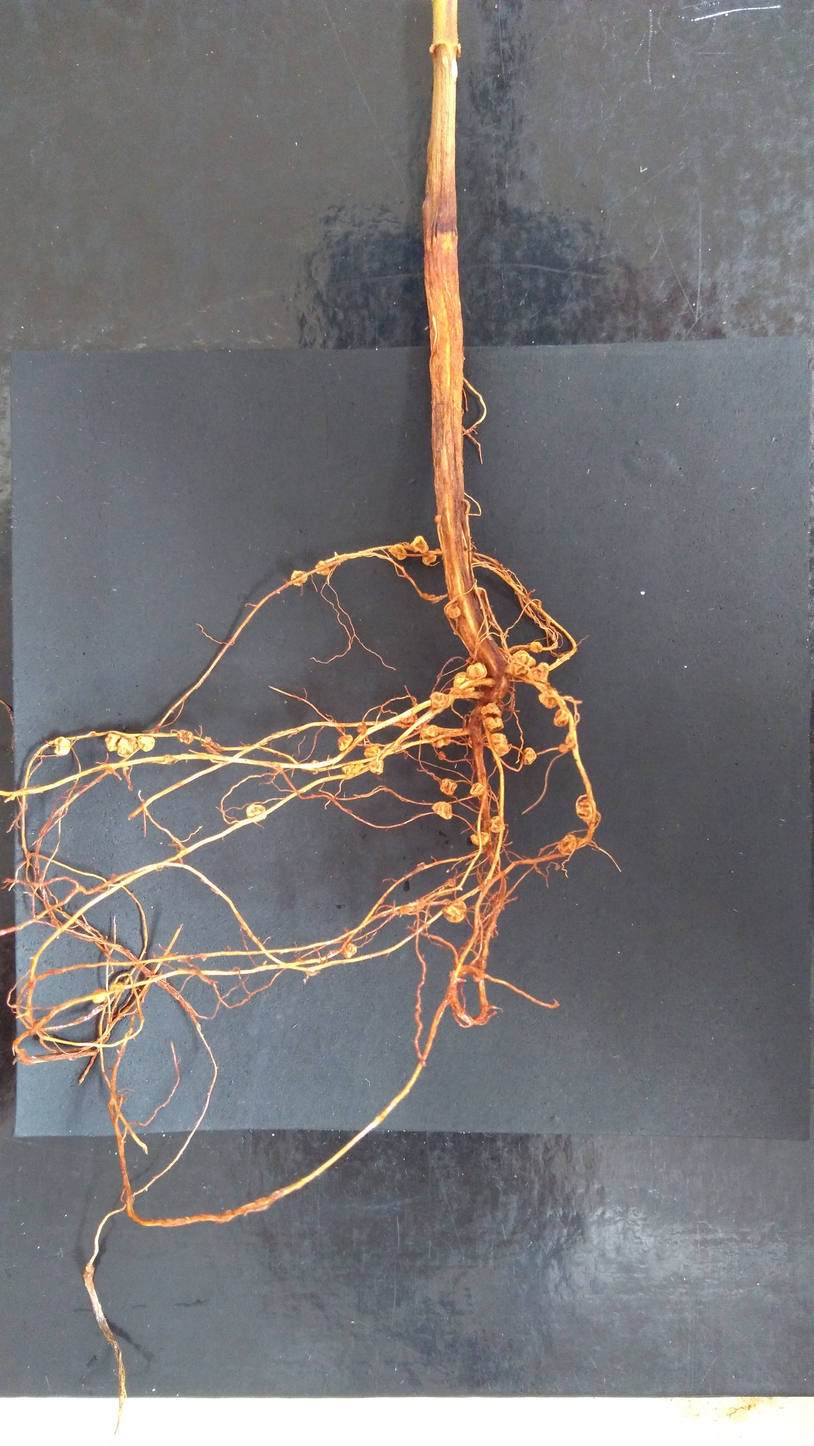nodule: (507, 649, 536, 677), (575, 793, 597, 824), (453, 671, 476, 698), (442, 899, 467, 923), (526, 661, 550, 684), (116, 735, 140, 758), (490, 733, 510, 757), (538, 688, 559, 710), (395, 713, 422, 730), (470, 957, 487, 983), (557, 834, 577, 855), (431, 801, 453, 820), (466, 662, 487, 680), (430, 691, 449, 710), (439, 777, 458, 796), (409, 535, 429, 553), (104, 732, 122, 752), (480, 702, 502, 718), (245, 804, 267, 820), (482, 716, 504, 732), (488, 815, 506, 834), (388, 544, 408, 561), (54, 736, 71, 756), (290, 569, 308, 587), (469, 831, 490, 846), (553, 709, 570, 727), (367, 757, 384, 775), (137, 735, 155, 752), (445, 602, 462, 619), (337, 734, 353, 752), (341, 941, 357, 959), (176, 729, 194, 745), (314, 560, 331, 576), (91, 988, 107, 1004), (110, 981, 125, 998), (522, 747, 536, 765), (364, 744, 382, 758), (469, 781, 484, 797), (421, 553, 437, 567), (430, 734, 444, 749), (424, 724, 439, 737), (340, 762, 355, 775), (308, 759, 320, 775), (420, 727, 434, 740), (350, 762, 365, 774), (530, 641, 543, 654), (438, 733, 451, 746), (565, 732, 576, 747), (399, 903, 410, 915), (163, 754, 174, 764), (305, 970, 320, 977), (559, 742, 568, 753), (422, 593, 436, 600), (357, 724, 366, 734), (437, 750, 445, 761), (467, 735, 473, 749), (474, 587, 483, 596), (447, 878, 456, 887), (434, 514, 442, 524), (416, 861, 425, 869), (504, 574, 512, 583), (465, 657, 473, 664), (203, 736, 212, 742), (434, 548, 443, 553), (453, 629, 460, 635), (537, 600, 542, 608), (9, 795, 15, 801), (201, 957, 207, 962), (514, 589, 517, 595)
